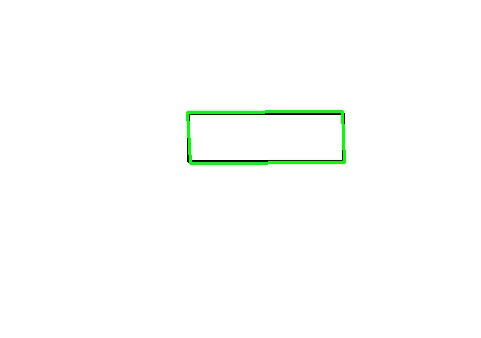line_segment: (186, 111, 346, 164)
